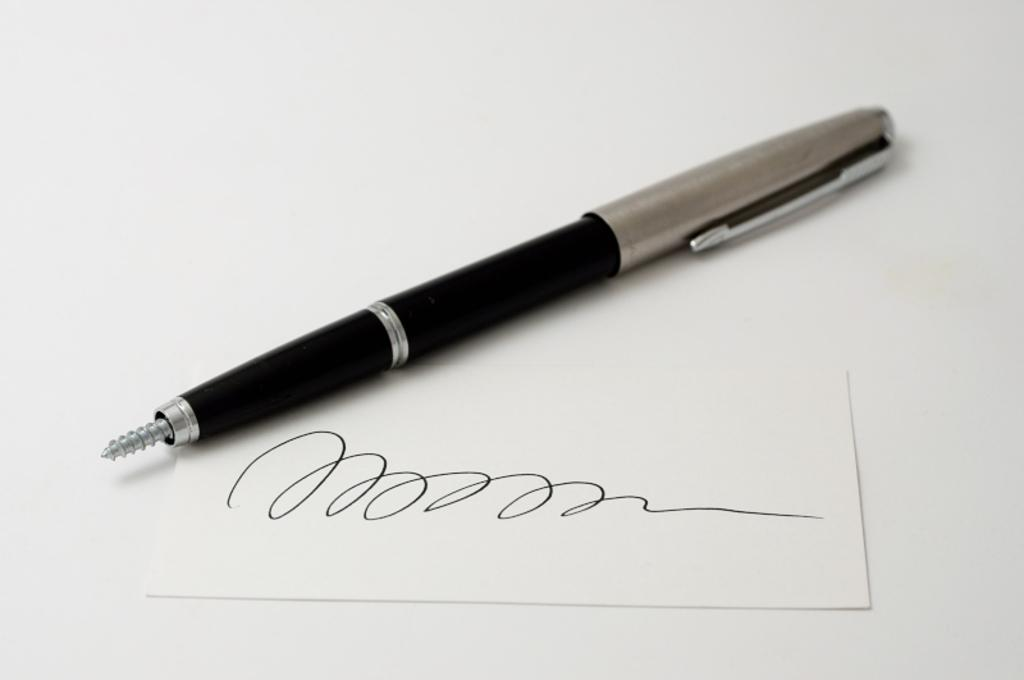pen: (96, 105, 897, 460)
